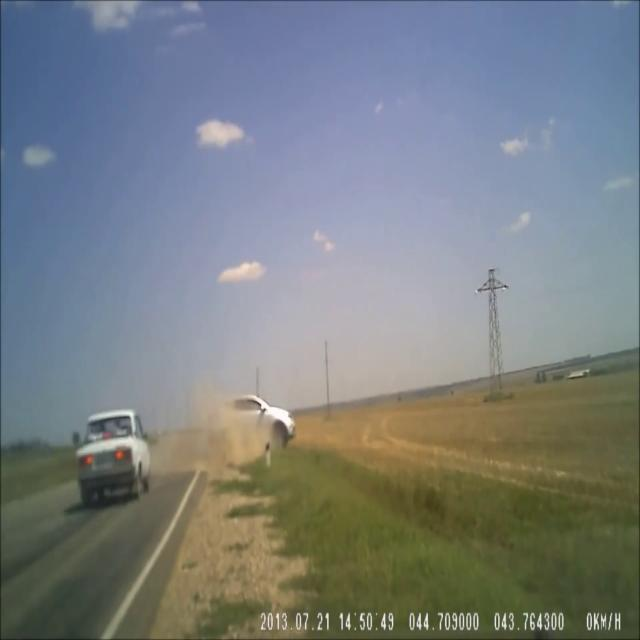accident: (208, 374, 305, 467)
